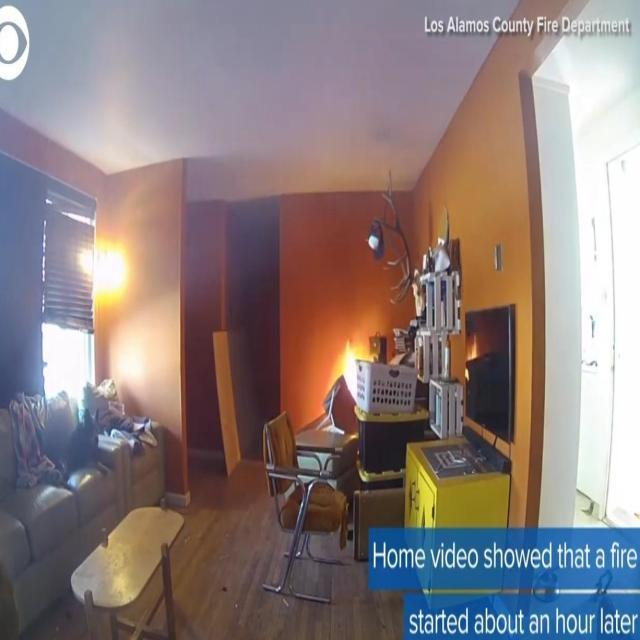smoke: (341, 336, 376, 402)
